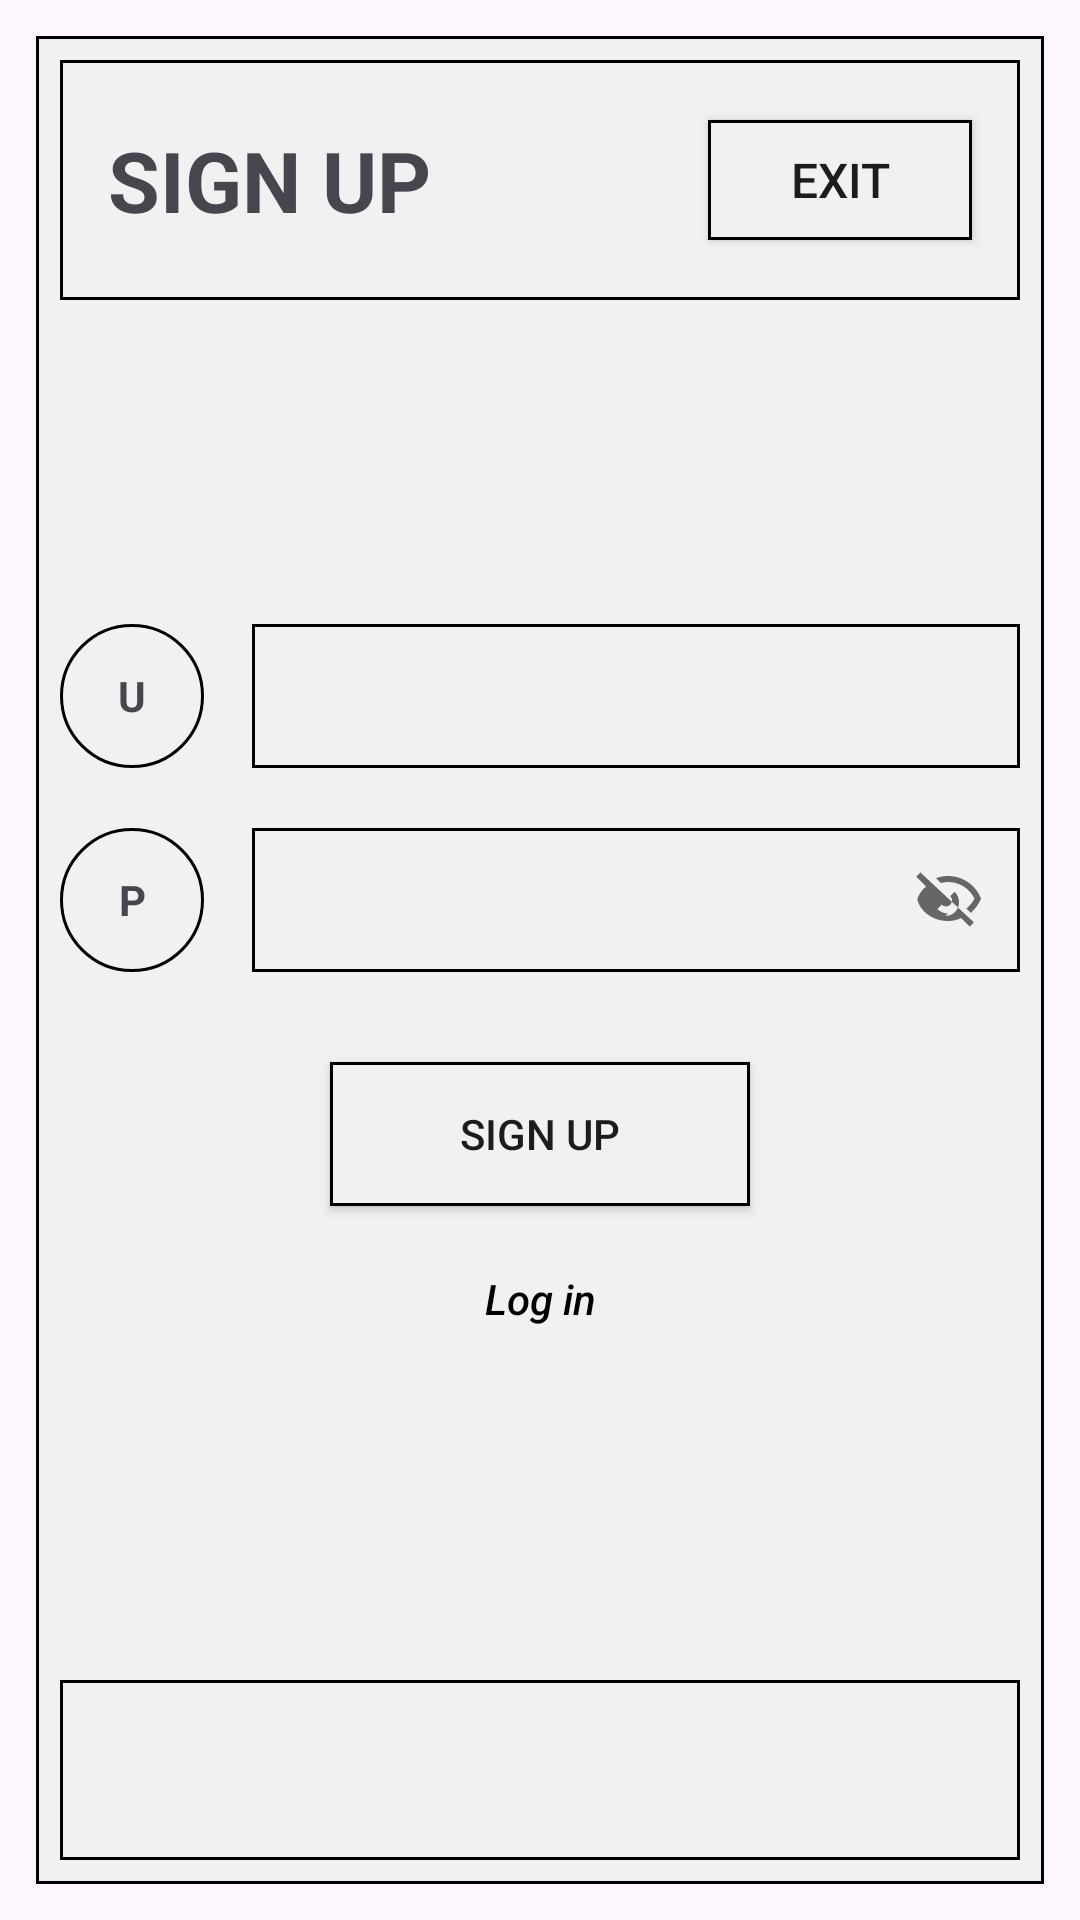

Point at icon controls on the screen. Image size 1080w x 1920h, points as point (x, y).
Mostrar/ocultar contraseña: point (948, 899)
